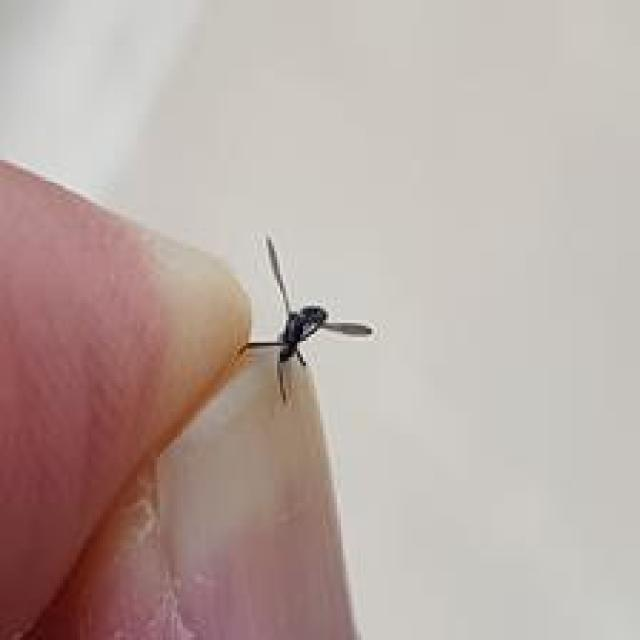Aedes albopictus: (237, 233, 374, 404)
